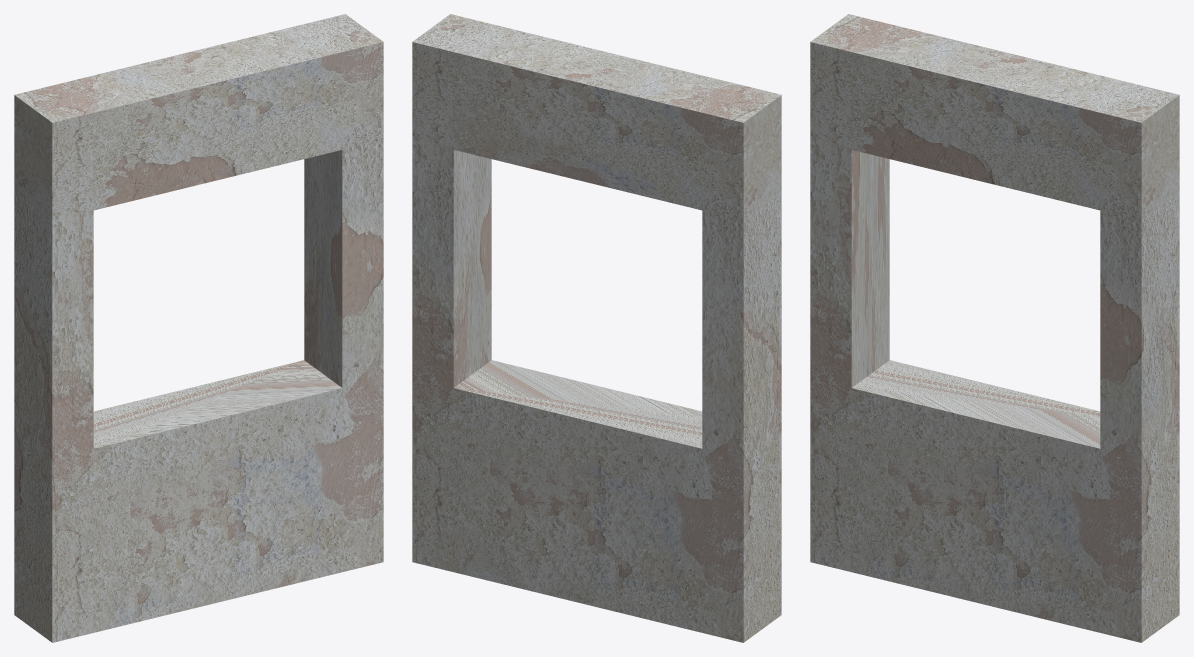
Rendered from terminal_flat_gise_01.glb.
The picture shows the model from 3 angles, left to right: view 1: azimuth 30°, elevation 25°; view 2: azimuth 150°, elevation 25°; view 3: azimuth 330°, elevation 25°; orthographic projection.
Visible parts, largest first — view 1: Cube; view 2: Cube; view 3: Cube.
Boxes of the visible parts, box(x1,y1,x2,y2) form: Cube: box(14, 14, 383, 642); Cube: box(412, 14, 781, 642); Cube: box(810, 14, 1179, 642).
Bounding box in the file's own units: 4 × 6 × 0.8.
Materials: 1 (1 with a texture image).
